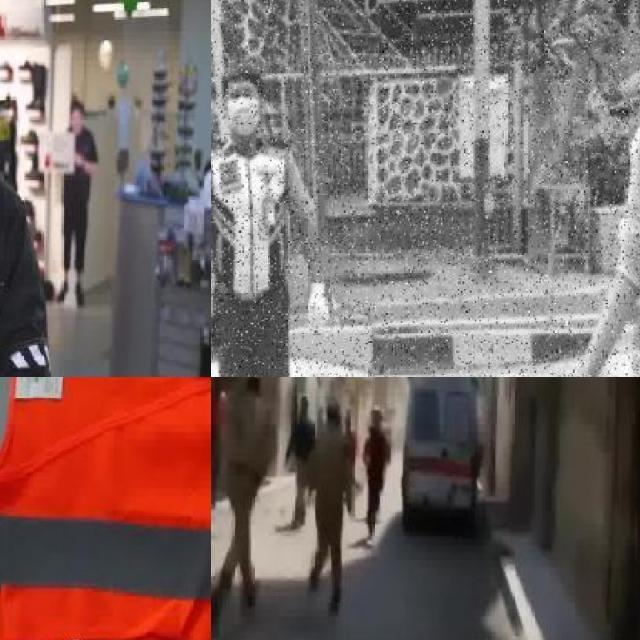apron: (304, 280, 330, 336)
